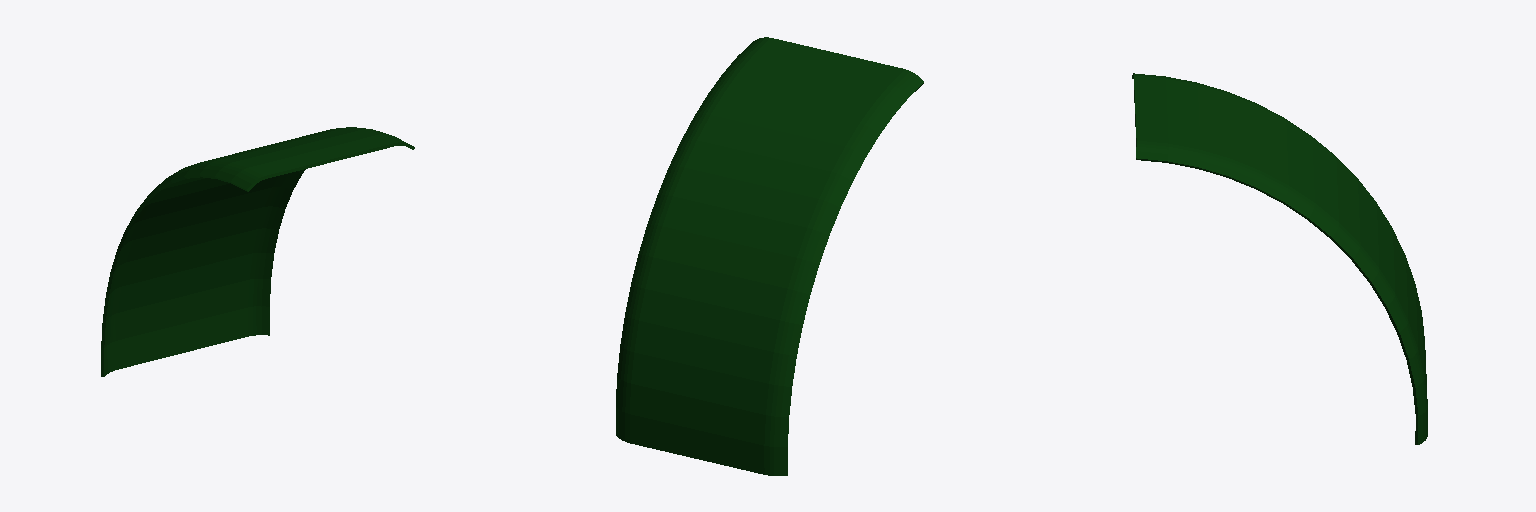
File: krilo.obj
The picture shows the model from 3 angles: view 1: azimuth 30°, elevation 25°; view 2: azimuth 150°, elevation 25°; view 3: azimuth 270°, elevation 25°; orthographic projection.
Visible parts, largest first — view 1: subD_3; view 2: subD_3; view 3: subD_3.
Part boxes in pixels (bbox=[...]): subD_3: bbox=[101, 127, 414, 376]; subD_3: bbox=[616, 37, 923, 475]; subD_3: bbox=[1132, 73, 1427, 444].
Size of the model in its own units: 0.2205 by 0.3594 by 0.3231.